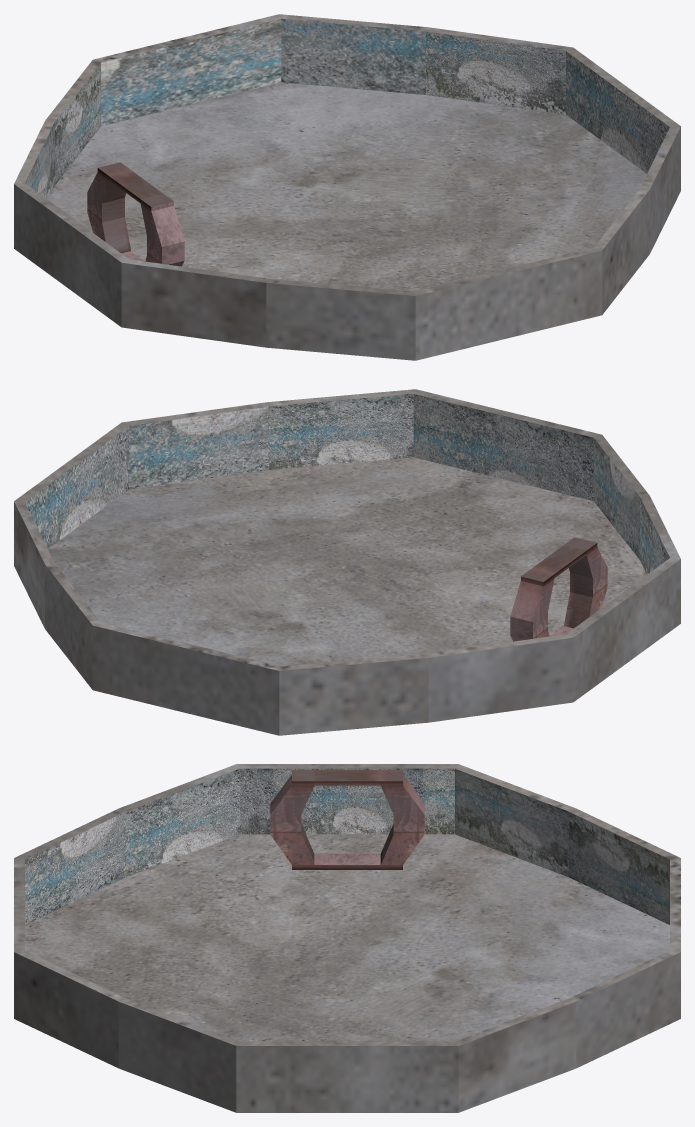
File: AbandonedBase.fbx
3 views of the same model, one above another, from view 1: azimuth 30°, elevation 25°; view 2: azimuth 150°, elevation 25°; view 3: azimuth 270°, elevation 25° (orthographic). The views are drawn at different scales.
Parts seen in each view (by area): view 1: Cube, Cube.001; view 2: Cube, Cube.001; view 3: Cube, Cube.001.
Boxes of the visible parts, x1=… form: Cube: x1=14, y1=14, x2=680, y2=360; Cube.001: x1=87, y1=162, x2=184, y2=266; Cube: x1=14, y1=389, x2=680, y2=735; Cube.001: x1=510, y1=537, x2=607, y2=641; Cube: x1=14, y1=764, x2=680, y2=1112; Cube.001: x1=270, y1=770, x2=424, y2=869.
Size of the model in its own units: 24024 by 3564 by 24024.
